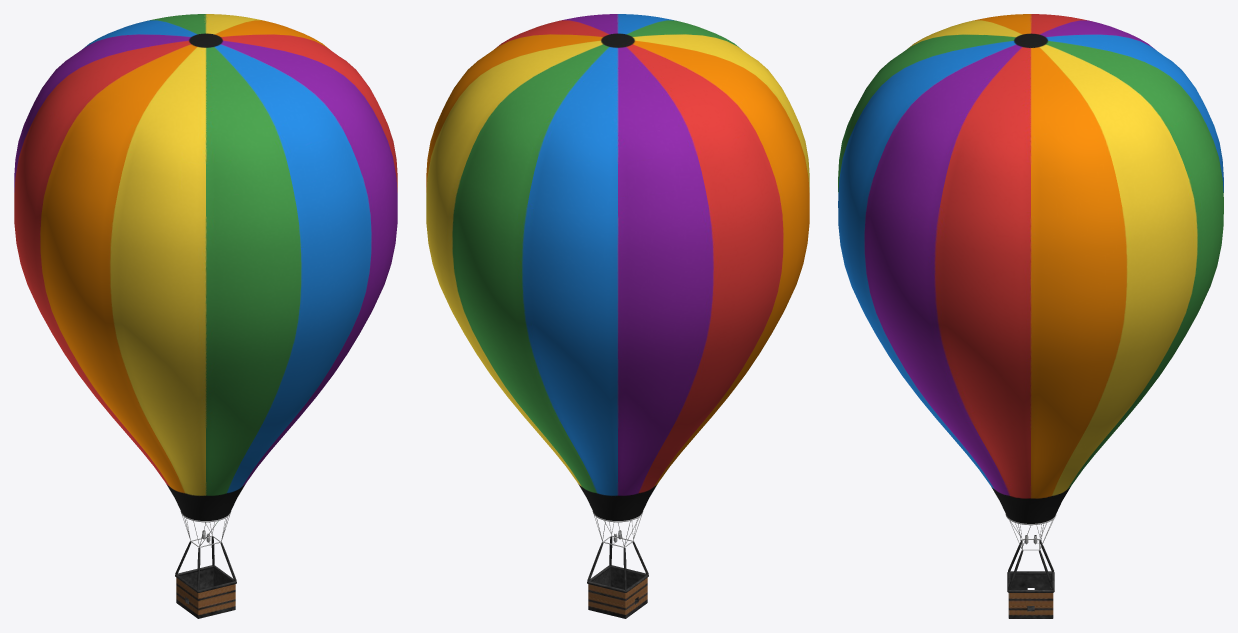
The model's file is Ballon.glb.
3 views of the same model, side by side, from view 1: azimuth 30°, elevation 25°; view 2: azimuth 150°, elevation 25°; view 3: azimuth 270°, elevation 25° (orthographic).
Parts seen in each view (by area): view 1: ballon_mesh; view 2: ballon_mesh; view 3: ballon_mesh.
Boxes of the visible parts, left/top/right/bottom form: ballon_mesh: left=14, top=14, right=397, bottom=618; ballon_mesh: left=426, top=14, right=809, bottom=618; ballon_mesh: left=838, top=14, right=1223, bottom=618.
Size of the model in its own units: 14.8 by 24.13 by 14.8.
Materials: 1 (1 with a texture image).
